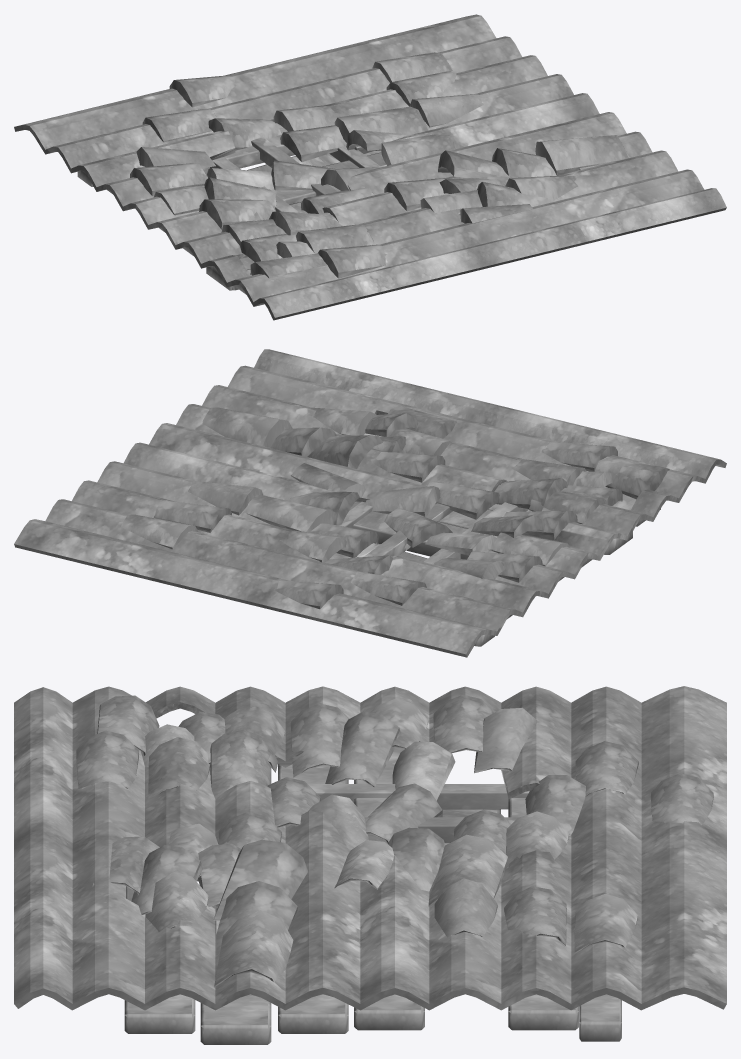
The model's file is SM_Rooftiles_01o.fbx.
The picture shows the model from 3 angles, top to bottom: view 1: azimuth 30°, elevation 25°; view 2: azimuth 150°, elevation 25°; view 3: azimuth 270°, elevation 25°; orthographic projection. The views are drawn at different scales.
Visible parts, largest first — view 1: SM_Rooftiles_01o_LOD0; view 2: SM_Rooftiles_01o_LOD0; view 3: SM_Rooftiles_01o_LOD0.
Boxes of the visible parts, box(x1,y1,x2,y2) form: SM_Rooftiles_01o_LOD0: box(14, 14, 726, 320); SM_Rooftiles_01o_LOD0: box(14, 349, 726, 657); SM_Rooftiles_01o_LOD0: box(14, 686, 726, 1044).
Size of the model in its own units: 301 by 300 by 40.89.
